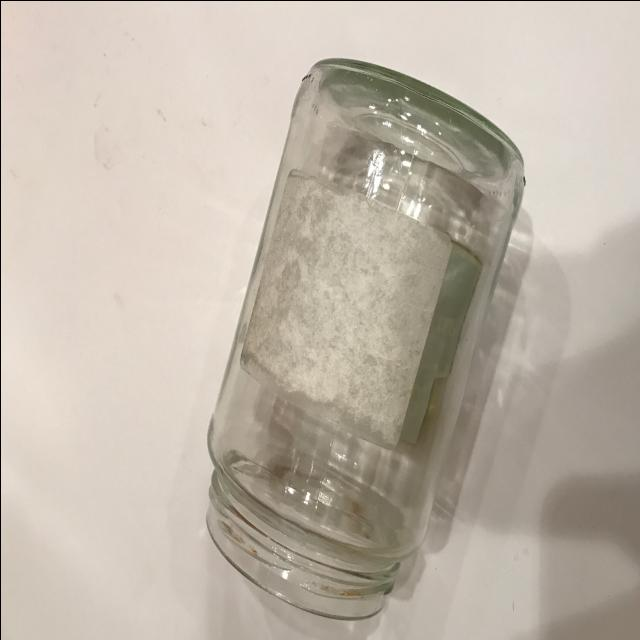glass: (205, 54, 522, 619)
